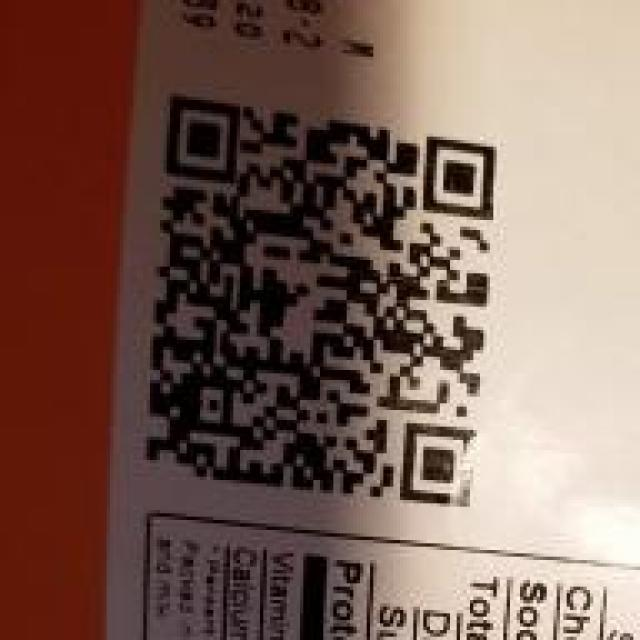qr_code: (145, 91, 497, 508)
